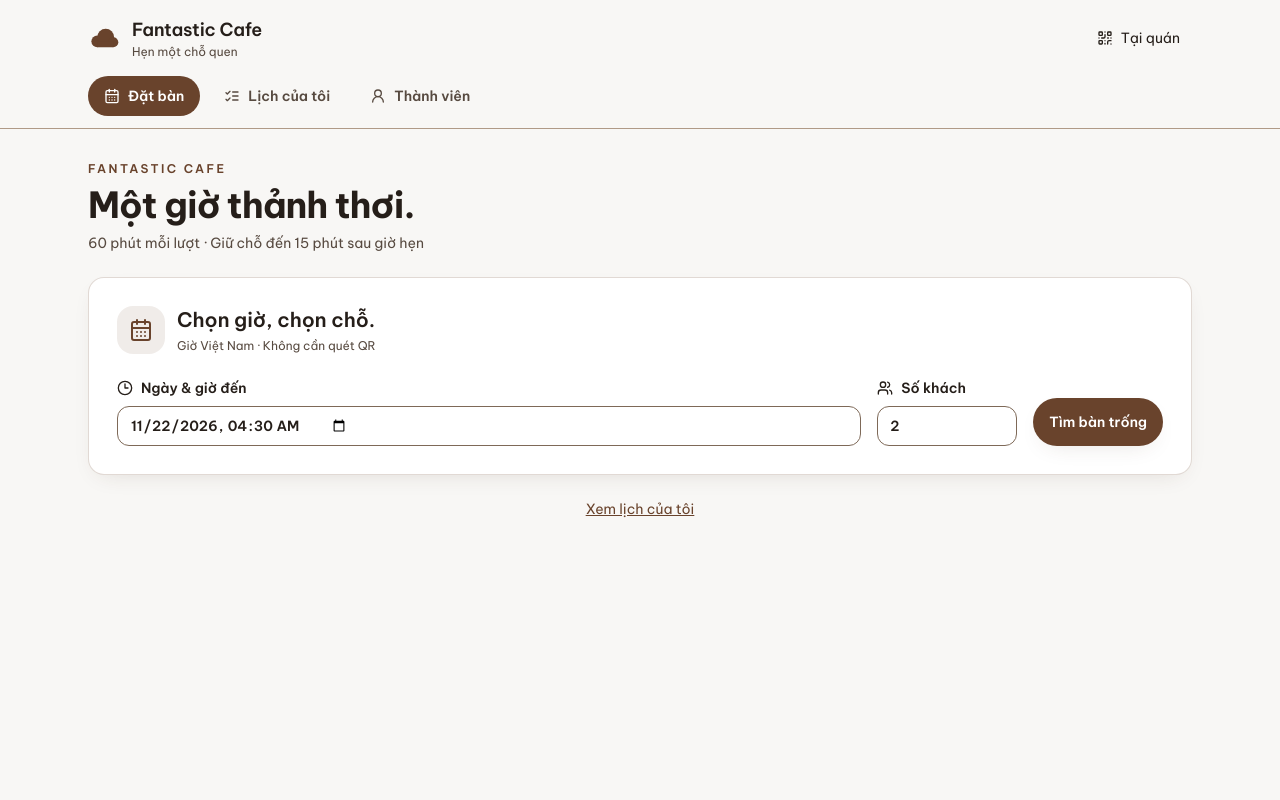
Test: standalone reservation UI › searches in VN time, selects a table and creates only after explicit confirmation
Replace the text in the field named "Ngày và giờ đến (giờ Việt Nam)" with "2026-10-23T10:30": point(489, 426) x1=117 y1=406 x2=861 y2=446
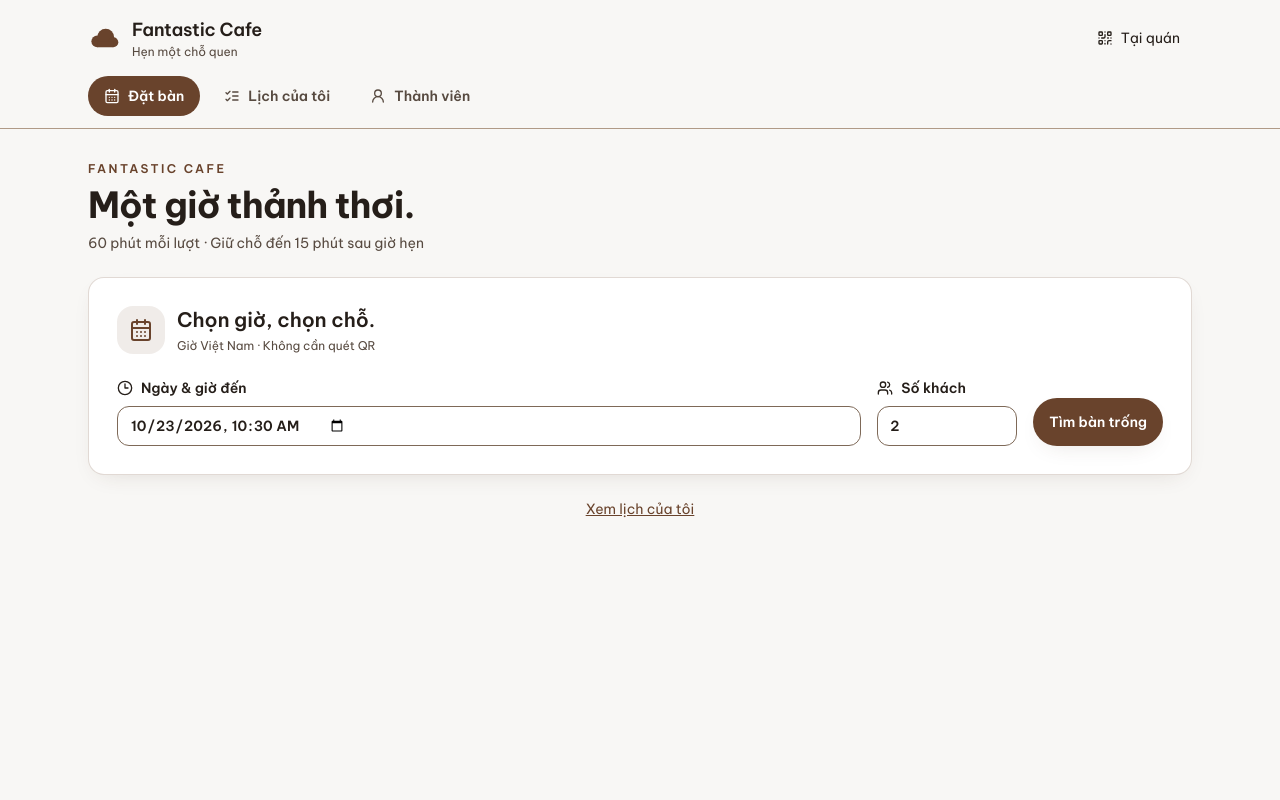
Click the button "Tìm bàn trống": point(1098, 422) x1=1033 y1=398 x2=1163 y2=446
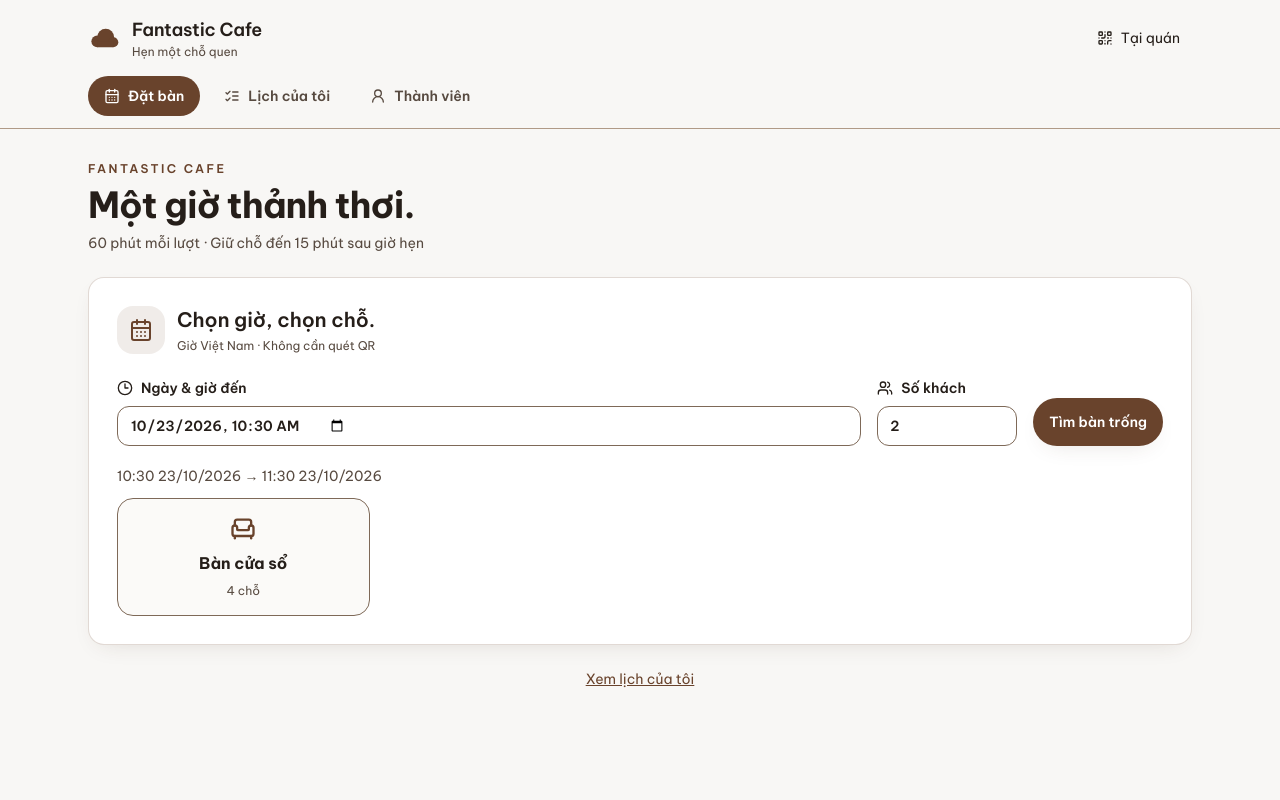
Click the button with aria-label "Bàn cửa sổ · 4 chỗ": point(243, 557) x1=117 y1=498 x2=370 y2=616
(page scrolled)
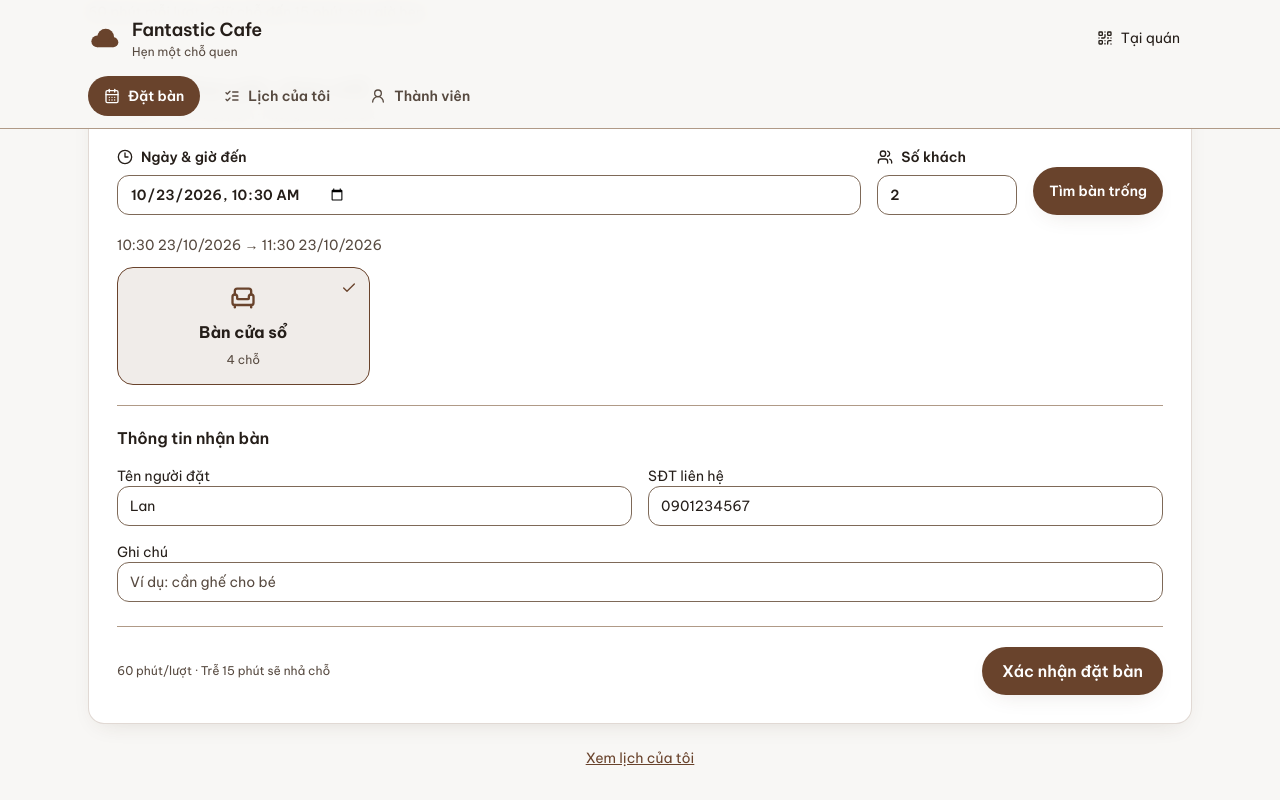
Click the button "Xác nhận đặt bàn": point(1072, 671) x1=982 y1=647 x2=1163 y2=695
(page scrolled)
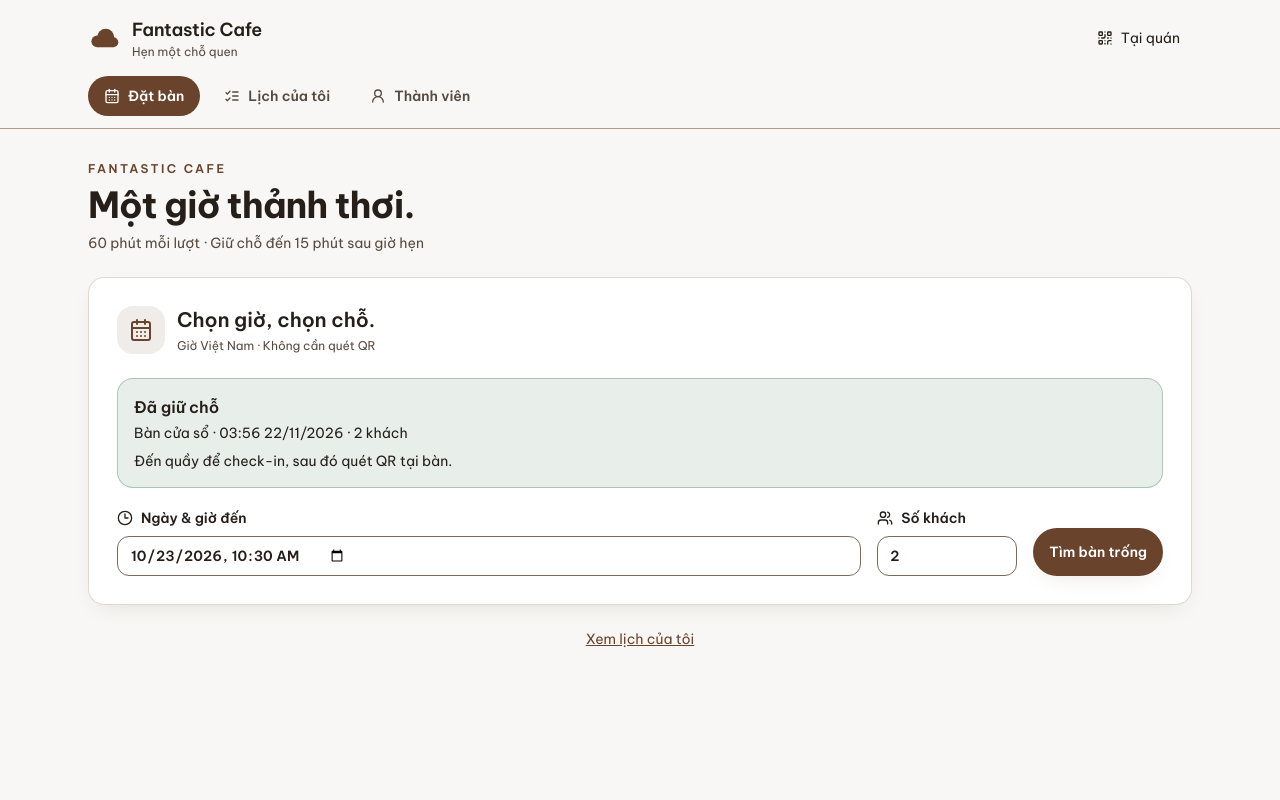
Result: the text "Đã giữ chỗ" is shown at x1=134 y1=397 x2=219 y2=417
